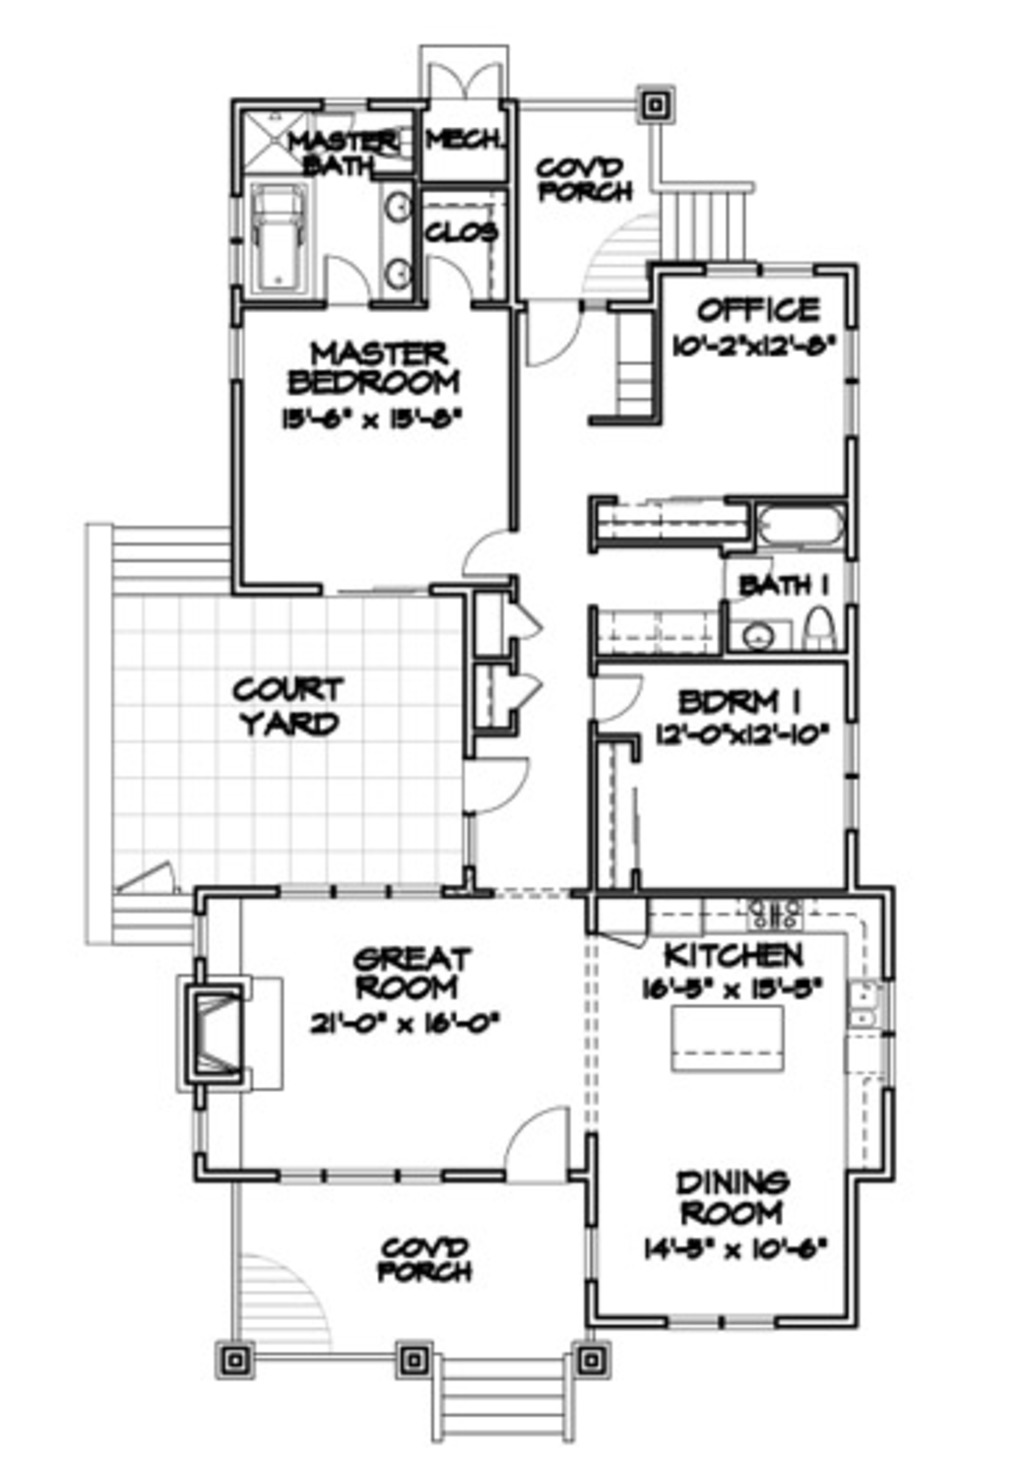door: (491, 1107, 585, 1188), (508, 297, 592, 369), (453, 749, 531, 819), (417, 252, 496, 319), (447, 523, 527, 578), (426, 61, 518, 106), (117, 859, 208, 905), (709, 555, 788, 607), (315, 249, 376, 313), (590, 660, 644, 722)
large_sink: (800, 597, 837, 652)
small_sink: (367, 173, 423, 299), (726, 614, 799, 651)
tub: (238, 173, 305, 305), (752, 504, 850, 549)
twin_sink: (847, 972, 887, 1035)
window: (273, 1165, 453, 1193), (714, 254, 817, 290), (668, 1305, 773, 1338), (217, 308, 259, 379), (844, 326, 868, 443)
